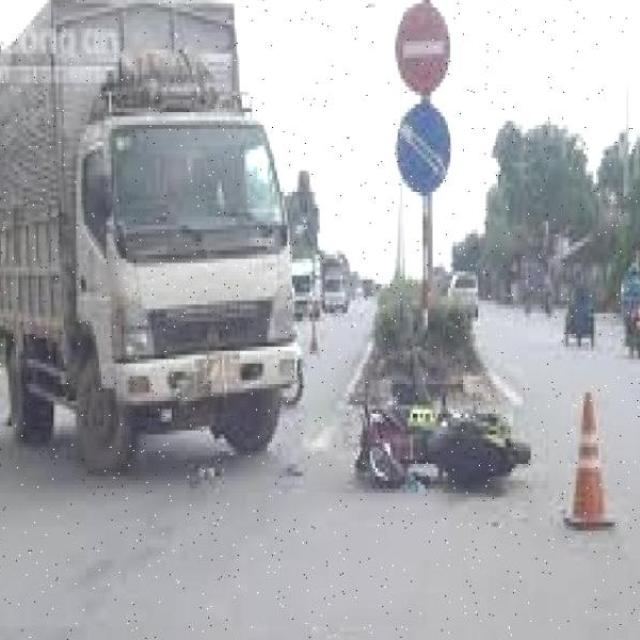accident: (344, 352, 536, 532)
